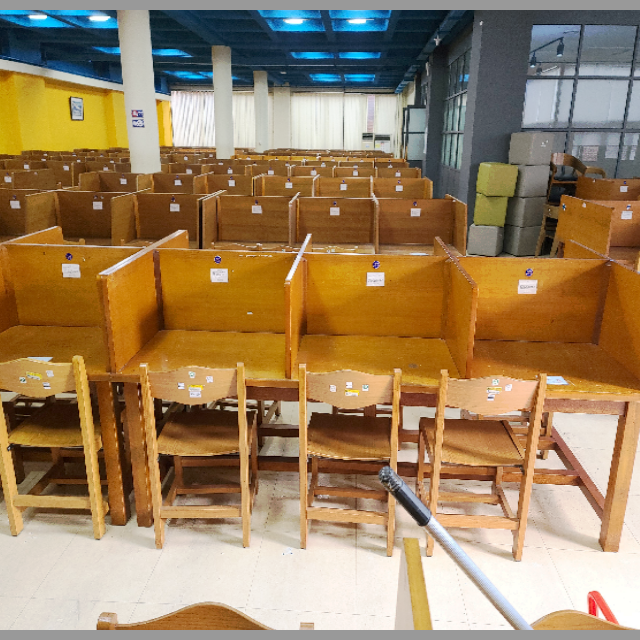empty: (103, 236, 288, 454), (298, 232, 470, 459), (475, 231, 640, 467)
